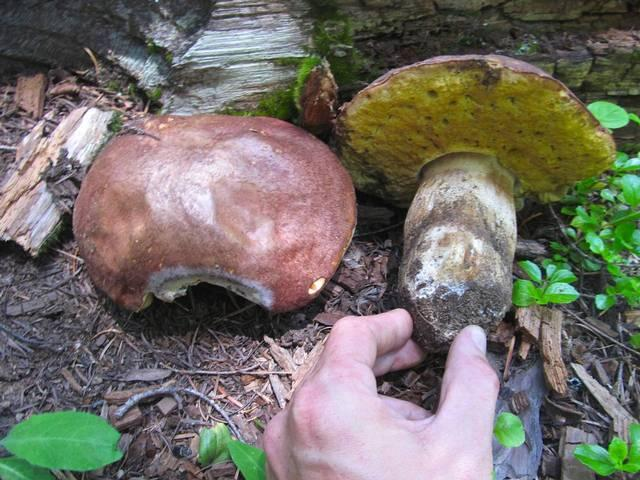Edible Mushroom: (329, 51, 616, 353), (70, 111, 358, 315)
